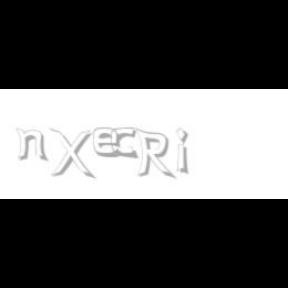R: (135, 128, 173, 180)
X: (49, 128, 93, 180)
c: (110, 128, 140, 160)
e: (93, 128, 126, 158)
i: (176, 128, 192, 176)
n: (15, 128, 49, 162)
